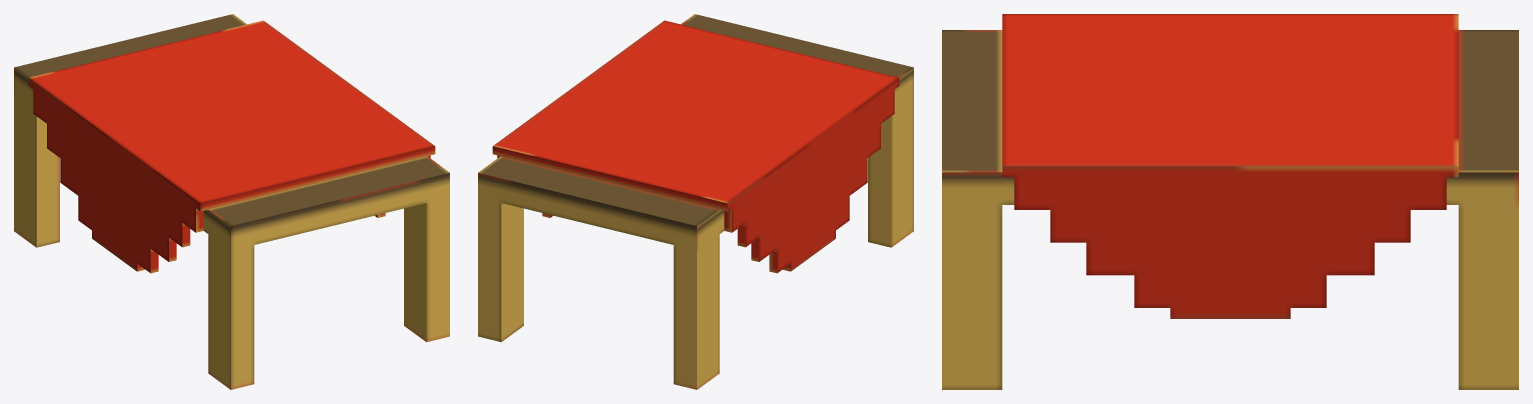
Rendered from Table_Cloth.obj.
3 renders of one model, left to right at view 1: azimuth 30°, elevation 25°; view 2: azimuth 150°, elevation 25°; view 3: azimuth 270°, elevation 25°, orthographic. The views are drawn at different scales.
Visible parts, largest first — view 1: Table_Cloth; view 2: Table_Cloth; view 3: Table_Cloth.
Boxes of the visible parts, x1,y1,x2,y2 form: Table_Cloth: (14,14,449,389); Table_Cloth: (478,14,913,389); Table_Cloth: (942,14,1518,389).
Size of the model in its own units: 3 by 2.1 by 4.8.
1 material, 1 textured.
